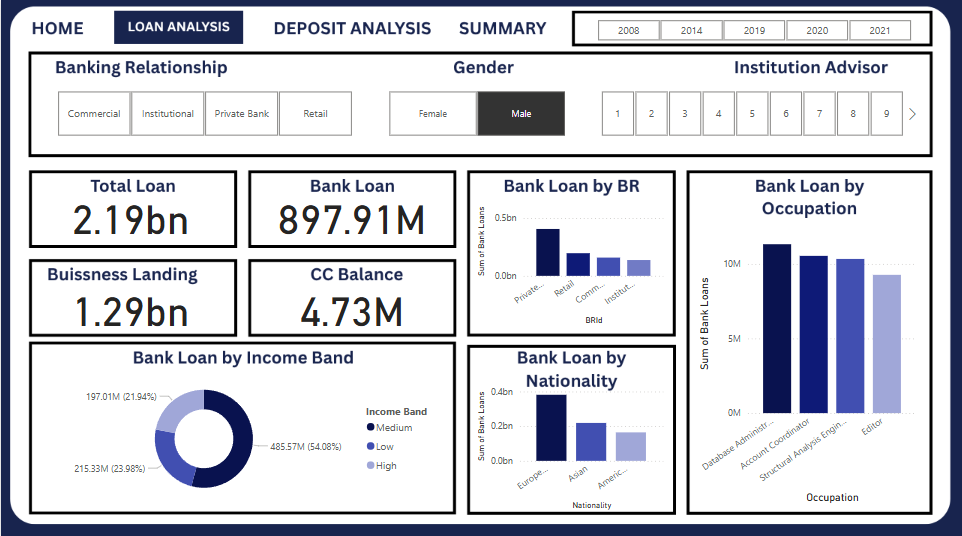

Layout of this report page (visuals, bound fields, positions):
{"tool":"powerbi","page":{"name":"Loan Analysis","canvas":[1280,720],"ordinal":1},"visuals":[{"type":"actionButton","box":[34.1,20,84.1,40],"z":0},{"type":"actionButton","box":[360.7,16.3,216.7,47.4],"z":1000},{"type":"actionButton","box":[602.2,16.3,133,47.4],"z":2000},{"type":"slicer","fields":{"Values":["Banking_Clients.Year of Joining"]},"box":[770,20,467.1,37.1],"z":3000},{"type":"card","fields":{"Values":["Blank Query.Total Loan"]},"box":[50,261.4,245.7,70],"z":4000},{"type":"card","fields":{"Values":["Sum(Banking_Clients.Business Lending)"]},"box":[50,385.7,245.7,70],"z":5000},{"type":"card","fields":{"Values":["Sum(Banking_Clients.Credit Card Balance)"]},"box":[345.7,384.3,245.7,70],"z":6000},{"type":"card","fields":{"Values":["Sum(Banking_Clients.Bank Loans)"]},"box":[345.7,261.4,245.7,70],"z":7000},{"type":"donutChart","fields":{"Category":["Banking_Clients.Income Band"],"Y":["Sum(Banking_Clients.Bank Loans)"]},"box":[50,497.1,541.4,177.1],"z":8000},{"type":"columnChart","fields":{"Y":["Sum(Banking_Clients.Bank Loans)"],"Series":["Banking_Clients.BRId"],"Category":["Banking_Clients.BRId"]},"box":[630,261.4,258.6,177.1],"z":9000},{"type":"columnChart","fields":{"Y":["Sum(Banking_Clients.Bank Loans)"],"Category":["Banking_Clients.Nationality"]},"box":[630,507.9,258.6,177.1],"z":10000},{"type":"columnChart","fields":{"Y":["Sum(Banking_Clients.Bank Loans)"],"Category":["Banking_Clients.Occupation"]},"box":[925,297.5,301.2,377.5],"z":11000},{"type":"slicer","fields":{"Values":["Banking_Clients.BRId"]},"box":[50,114.3,441.4,72.9],"z":12000},{"type":"slicer","fields":{"Values":["Banking_Clients.GenderId"]},"box":[491.4,114.3,284.3,72.9],"z":13000},{"type":"slicer","fields":{"Values":["Banking_Clients.IAId"]},"box":[775.7,114.3,451.4,72.9],"z":14000}]}

Visuals, with their boxes in screenshot pixels (x1, y1, x2, y2), scaled from the page's 1280x720 canvas onto the 962x536 screenshot:
actionButton: {"x1": 26, "y1": 15, "x2": 89, "y2": 45}
actionButton: {"x1": 271, "y1": 12, "x2": 434, "y2": 47}
actionButton: {"x1": 453, "y1": 12, "x2": 553, "y2": 47}
slicer - Banking_Clients.Year of Joining: {"x1": 579, "y1": 15, "x2": 930, "y2": 43}
card - Blank Query.Total Loan: {"x1": 38, "y1": 195, "x2": 222, "y2": 247}
card - Sum(Banking_Clients.Business Lending): {"x1": 38, "y1": 287, "x2": 222, "y2": 339}
card - Sum(Banking_Clients.Credit Card Balance): {"x1": 260, "y1": 286, "x2": 444, "y2": 338}
card - Sum(Banking_Clients.Bank Loans): {"x1": 260, "y1": 195, "x2": 444, "y2": 247}
donutChart - Banking_Clients.Income Band x Sum(Banking_Clients.Bank Loans): {"x1": 38, "y1": 370, "x2": 444, "y2": 502}
columnChart - Sum(Banking_Clients.Bank Loans) x Banking_Clients.BRId: {"x1": 473, "y1": 195, "x2": 668, "y2": 326}
columnChart - Sum(Banking_Clients.Bank Loans) x Banking_Clients.Nationality: {"x1": 473, "y1": 378, "x2": 668, "y2": 510}
columnChart - Sum(Banking_Clients.Bank Loans) x Banking_Clients.Occupation: {"x1": 695, "y1": 221, "x2": 922, "y2": 502}
slicer - Banking_Clients.BRId: {"x1": 38, "y1": 85, "x2": 369, "y2": 139}
slicer - Banking_Clients.GenderId: {"x1": 369, "y1": 85, "x2": 583, "y2": 139}
slicer - Banking_Clients.IAId: {"x1": 583, "y1": 85, "x2": 922, "y2": 139}
